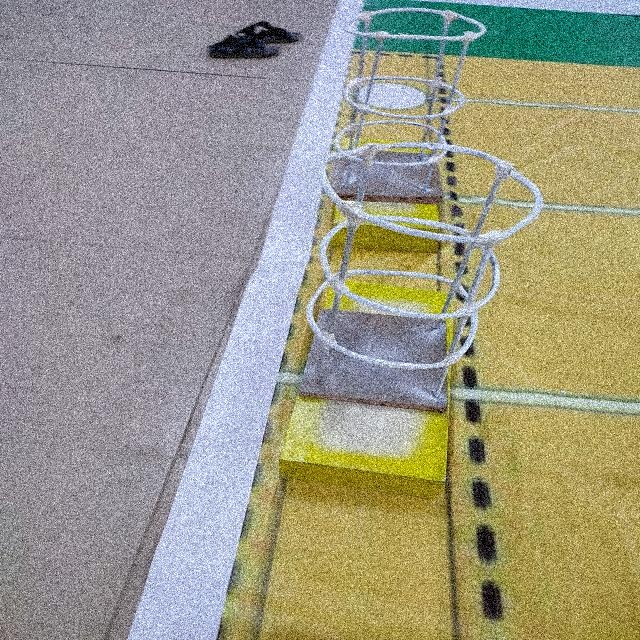silo: (291, 128, 564, 434), (318, 5, 481, 208)
